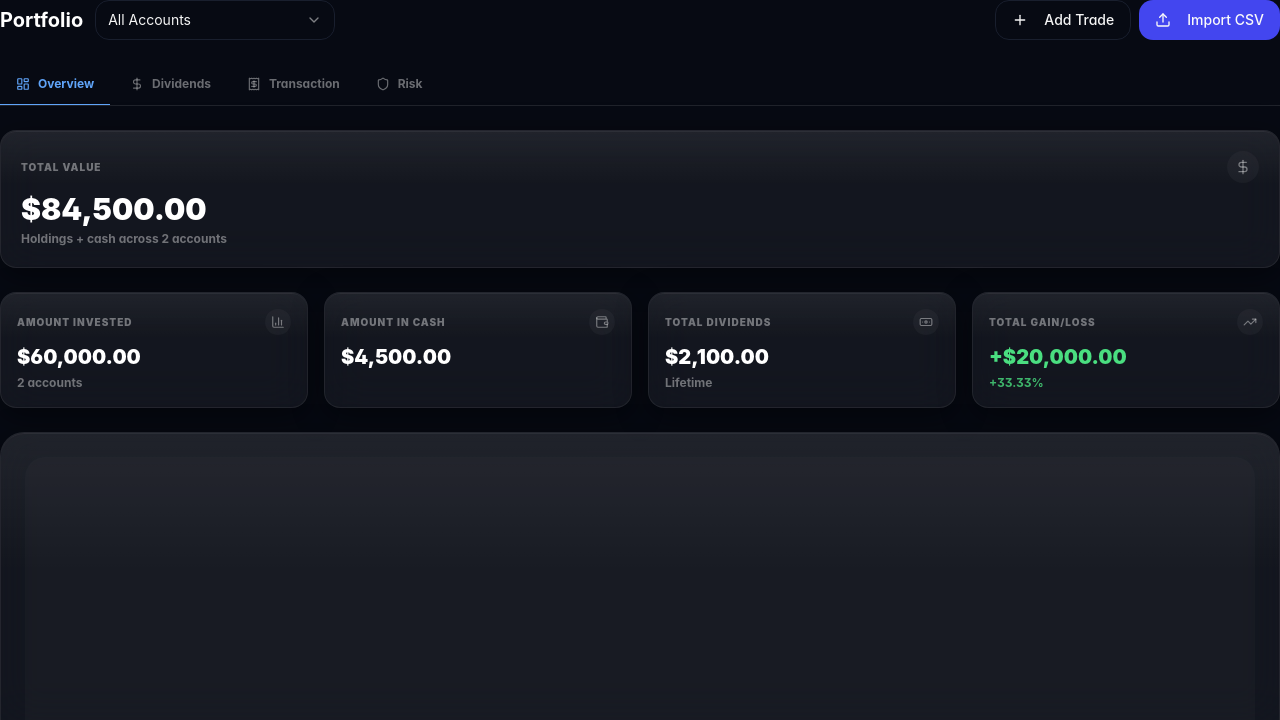
Scenario: PortfolioTabShell — FT-SHELL-01 to FT-SHELL-04 › FT-SHELL-15: clicking Add Trade button opens manual trade form
Click the button "Add Trade" at [1063, 20], box [995,0,1131,40]
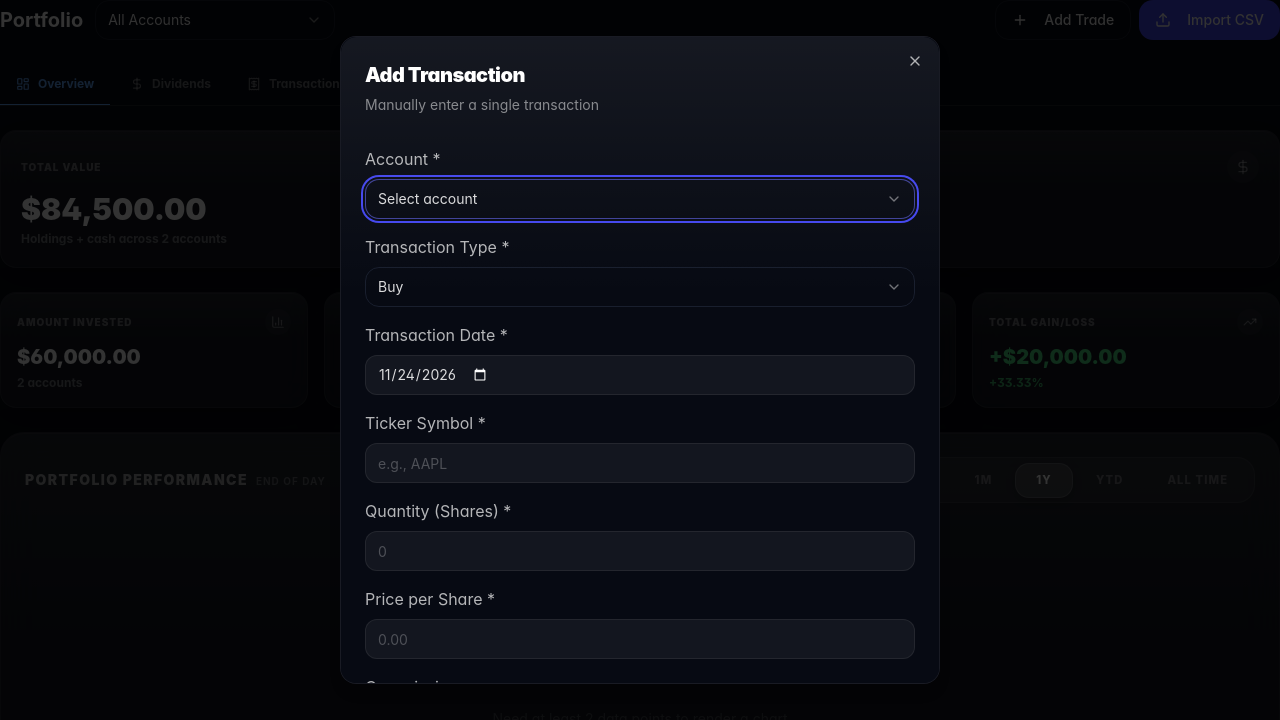
Check: the number of headings "Add Transaction" is 2
